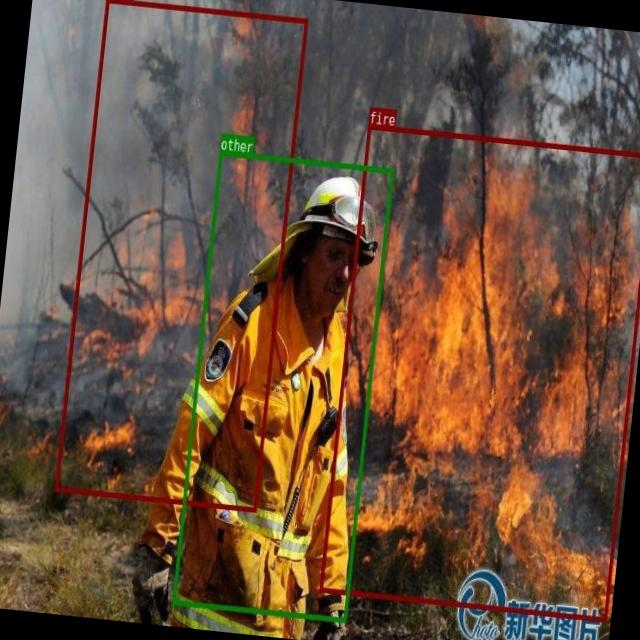fire: (318, 122, 640, 621), (53, 0, 306, 511)
